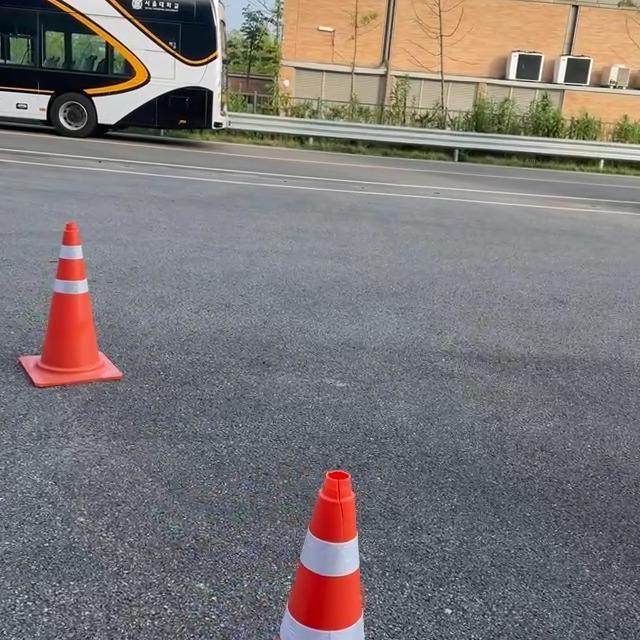fallen_object: (11, 201, 181, 466), (225, 433, 401, 640)
